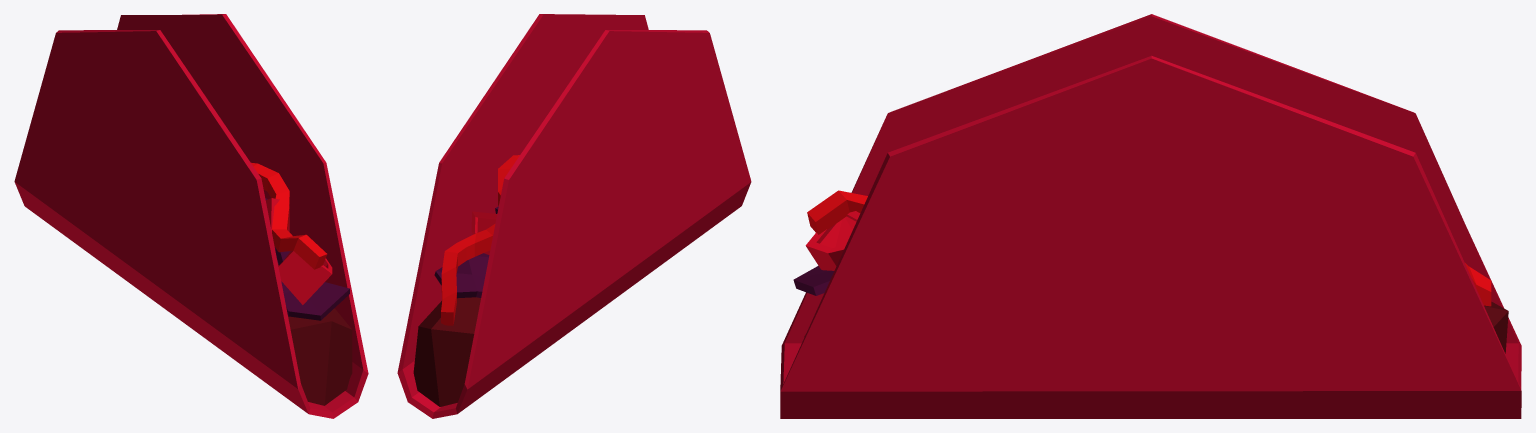
Rendered from Taco_01.fbx.
The picture shows the model from 3 angles, left to right: view 1: azimuth 30°, elevation 25°; view 2: azimuth 150°, elevation 25°; view 3: azimuth 270°, elevation 25°; orthographic projection. The views are drawn at different scales.
Parts seen in each view (by area): view 1: Taco_01; view 2: Taco_01; view 3: Taco_01.
Part boxes in pixels (x1,y1,x2,y2): Taco_01: (14,14,368,418); Taco_01: (397,14,751,418); Taco_01: (780,14,1521,418).
Bounding box in the file's own units: 1.26 × 5.04 × 8.87.
